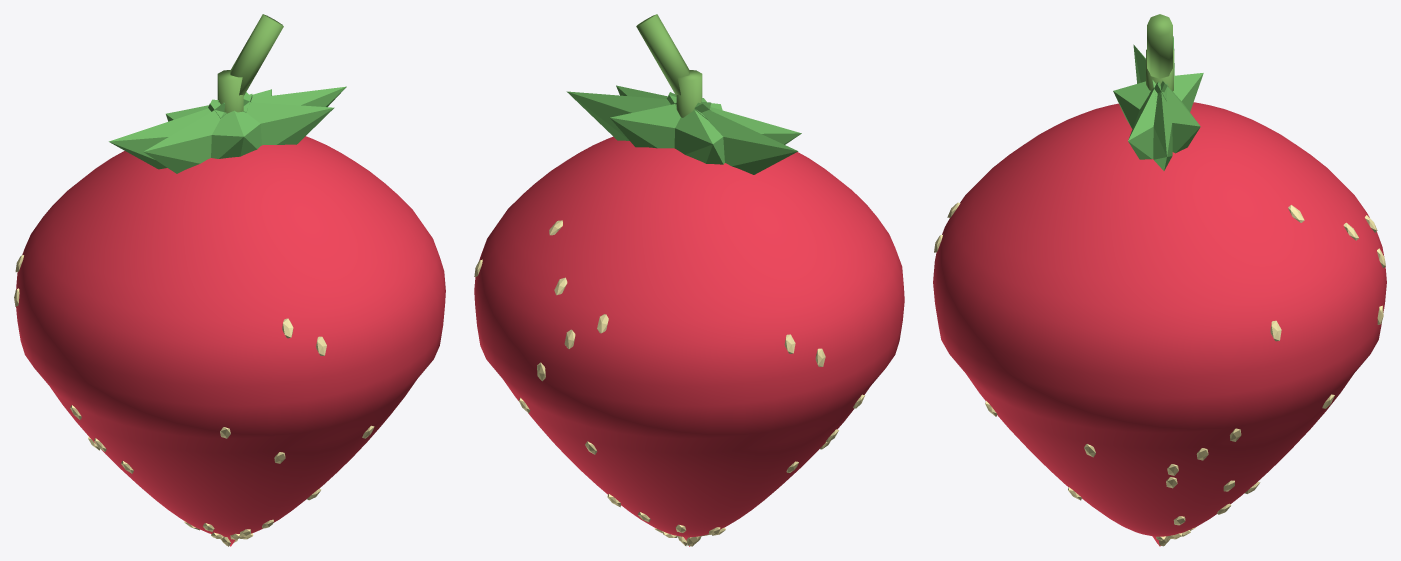
The model's file is cilek.glb.
3 views of the same model, side by side, from view 1: azimuth 30°, elevation 25°; view 2: azimuth 150°, elevation 25°; view 3: azimuth 270°, elevation 25° (orthographic). The views are drawn at different scales.
Visible parts, largest first — view 1: Cilek; view 2: Cilek; view 3: Cilek.
Boxes of the visible parts, x1,y1,x2,y2 form: Cilek: (14,14,445,546); Cilek: (474,14,904,546); Cilek: (933,14,1386,546).
Bounding box in the file's own units: 0.71 × 0.95 × 0.71.
